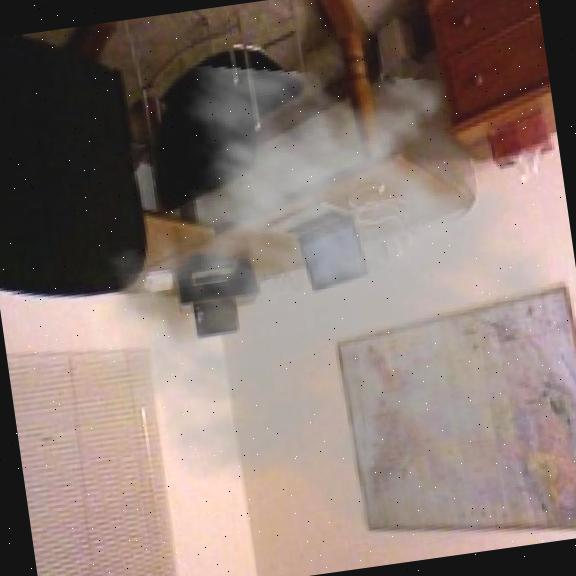smoke: (58, 16, 576, 576)
